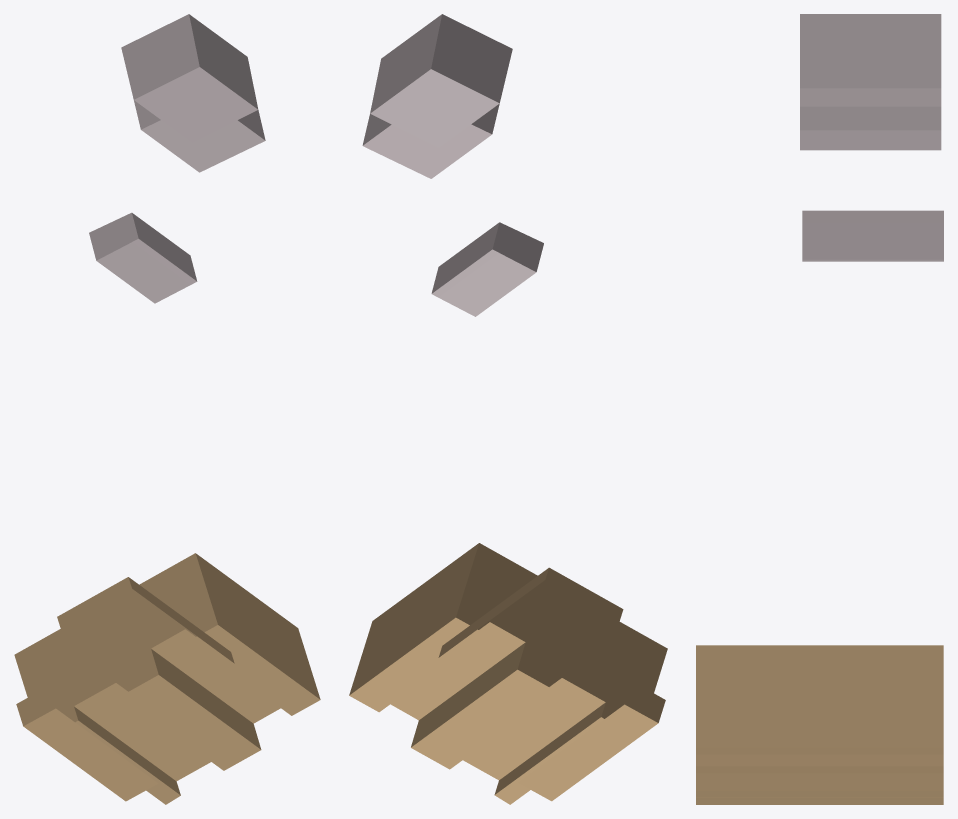
The picture shows the model from 3 angles, left to right: view 1: azimuth 30°, elevation 25°; view 2: azimuth 150°, elevation 25°; view 3: azimuth 270°, elevation 25°; orthographic projection. The views are drawn at different scales.
Parts seen in each view (by area): view 1: 0_2_3_2_1_1_3; view 2: 0_2_3_2_1_1_3; view 3: 0_2_3_2_1_1_3.
Part boxes in pixels (x1,y1,x2,y2): 0_2_3_2_1_1_3: (14,14,320,804); 0_2_3_2_1_1_3: (349,14,667,804); 0_2_3_2_1_1_3: (696,14,943,804).
Bounding box in the file's own units: 24.06 × 77.42 × 21.02.
